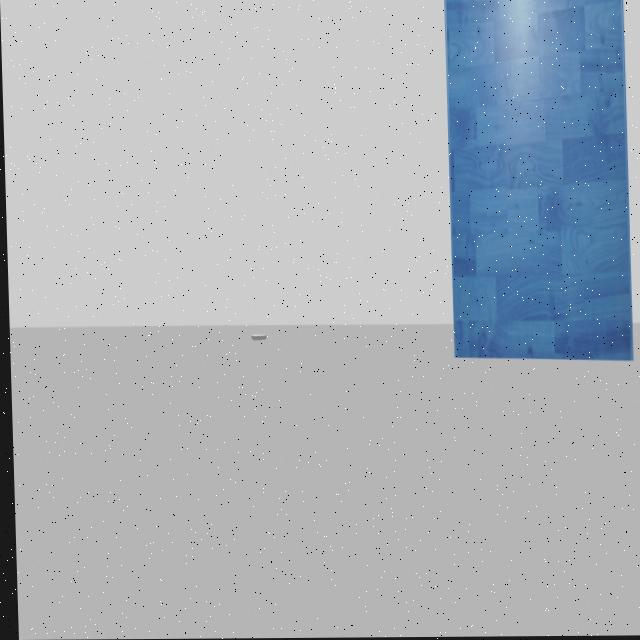bowl: (245, 330, 268, 345)
shelf: (433, 0, 640, 383)
